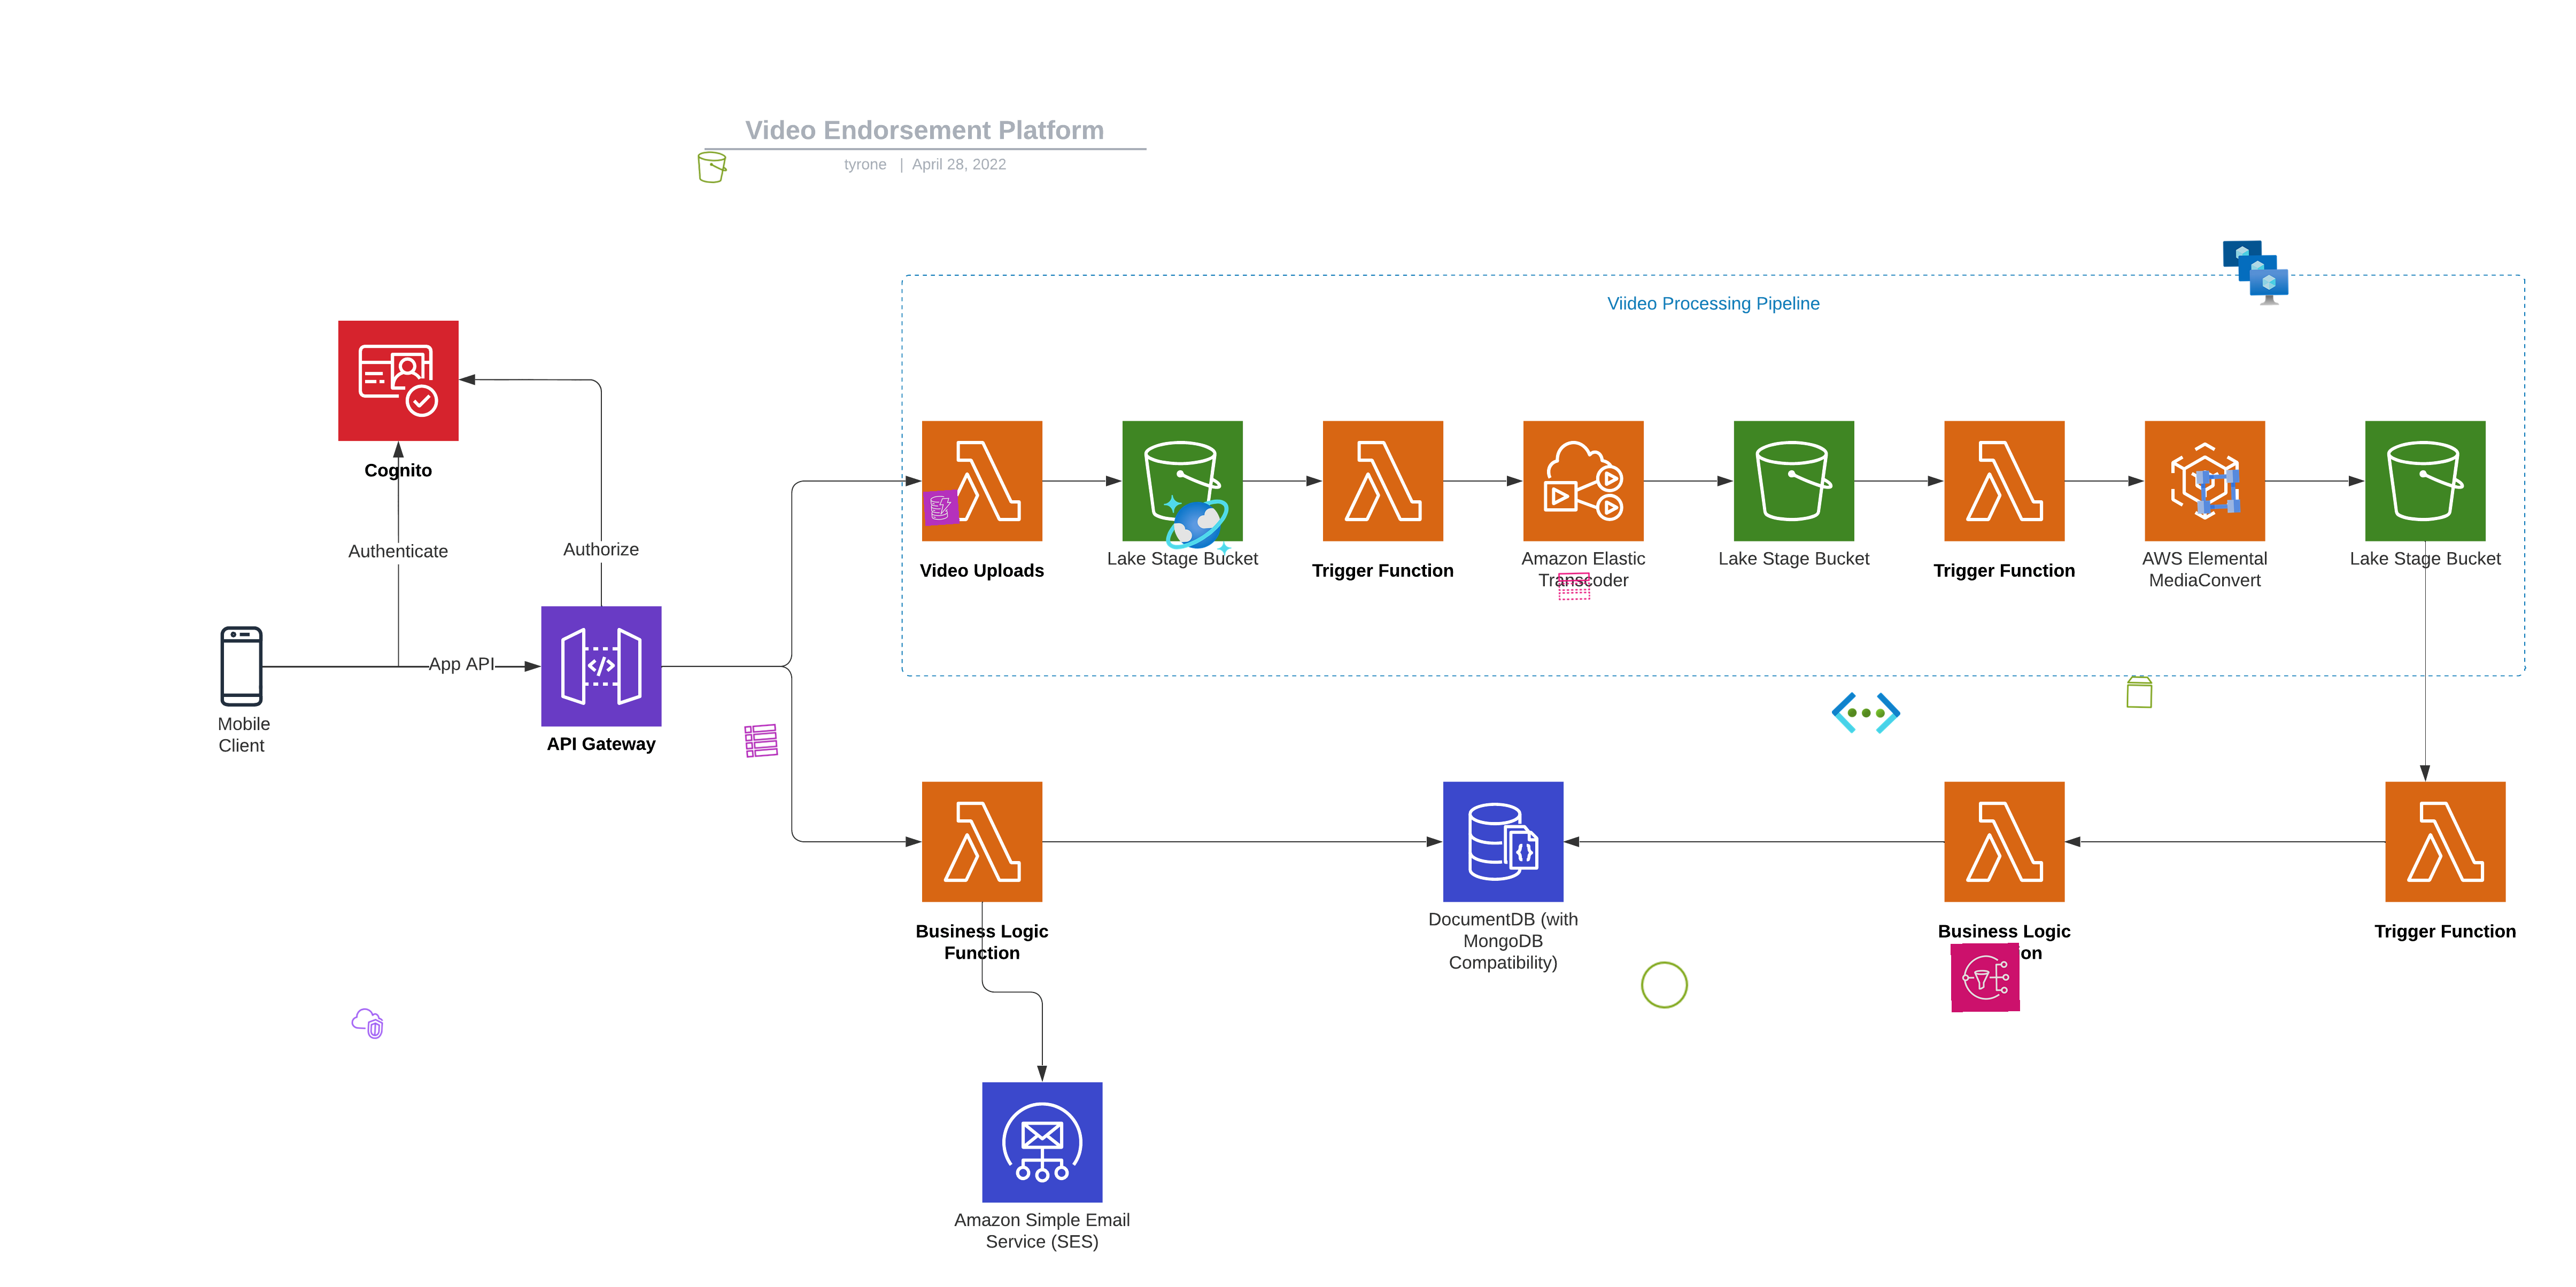aws_amazon_dynamodb: (923, 489, 959, 527)
aws_amazon_simple_notification_service: (1950, 942, 2021, 1013)
aws_dynamodb_table: (743, 722, 780, 760)
aws_elastic_block_store_volume: (2123, 675, 2157, 709)
aws_simple_notification_service_topic: (1557, 568, 1592, 604)
aws_simple_storage_service_bucket: (693, 149, 729, 185)
aws_simple_storage_service_object: (1638, 959, 1691, 1011)
aws_vpc_virtual_private_cloud_vpc: (348, 1005, 386, 1042)
azure_cosmos_db: (1160, 489, 1234, 563)
azure_virtual_networks: (1830, 678, 1901, 749)
azure_vm_scale_sets: (2220, 236, 2290, 307)
gcp_virtual_private_cloud: (2192, 465, 2246, 519)
